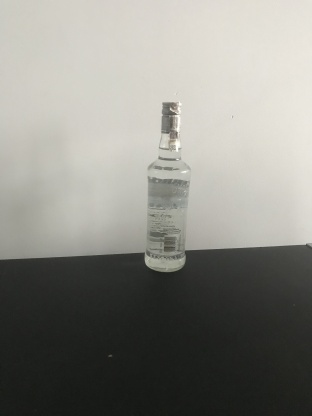nakretka: (159, 99, 183, 134)
